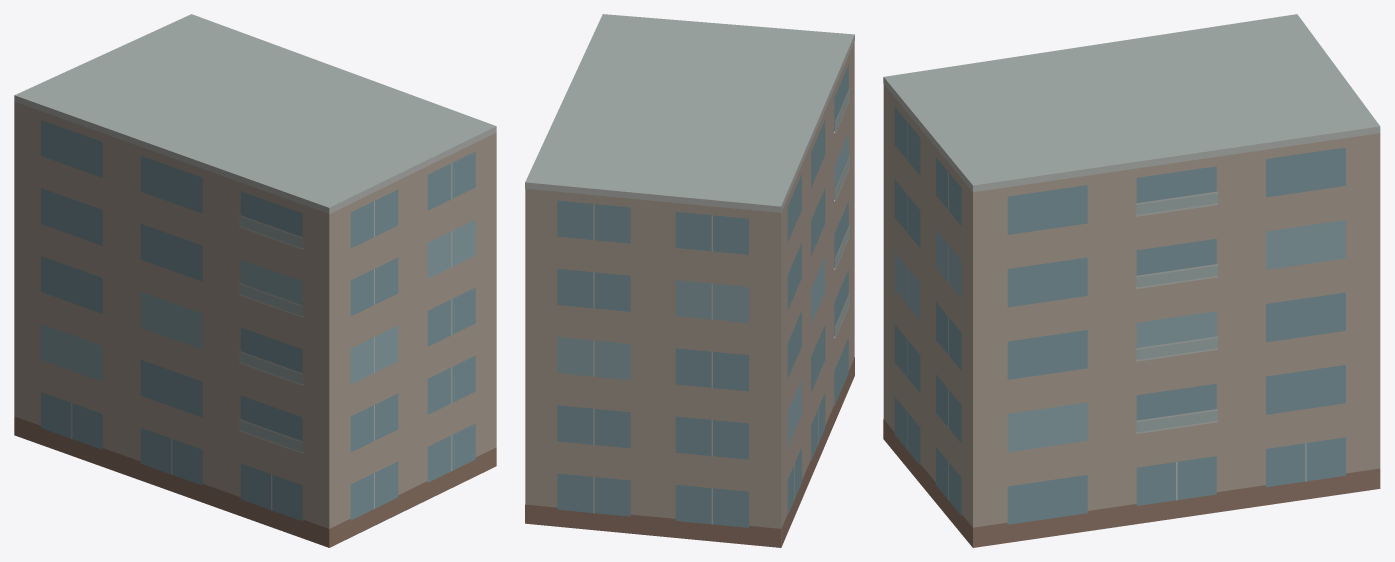
File: survey-upis-32525102.glb
The picture shows the model from 3 angles, left to right: view 1: azimuth 30°, elevation 25°; view 2: azimuth 150°, elevation 25°; view 3: azimuth 270°, elevation 25°; orthographic projection. The views are drawn at different scales.
Parts seen in each view (by area): view 1: survey-upis-32525102.tmp; view 2: survey-upis-32525102.tmp; view 3: survey-upis-32525102.tmp.
Boxes of the visible parts, bbox=[...] form: survey-upis-32525102.tmp: bbox=[14, 14, 496, 547]; survey-upis-32525102.tmp: bbox=[525, 14, 854, 547]; survey-upis-32525102.tmp: bbox=[883, 14, 1380, 547].
Size of the model in its own units: 13.42 by 13.2 by 16.41.
